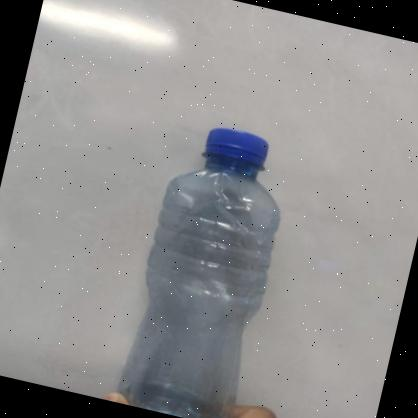bottle: (115, 114, 305, 402)
cap: (198, 123, 276, 177)
